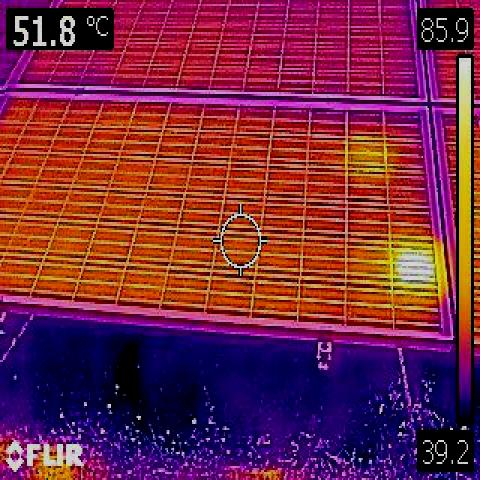fault: (397, 252, 432, 282)
